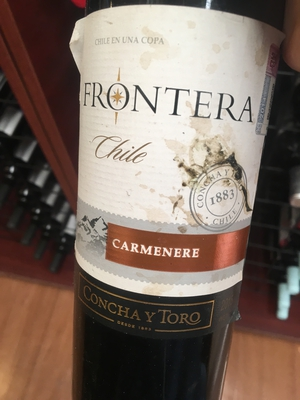frontera carmenere: (69, 4, 278, 400)
